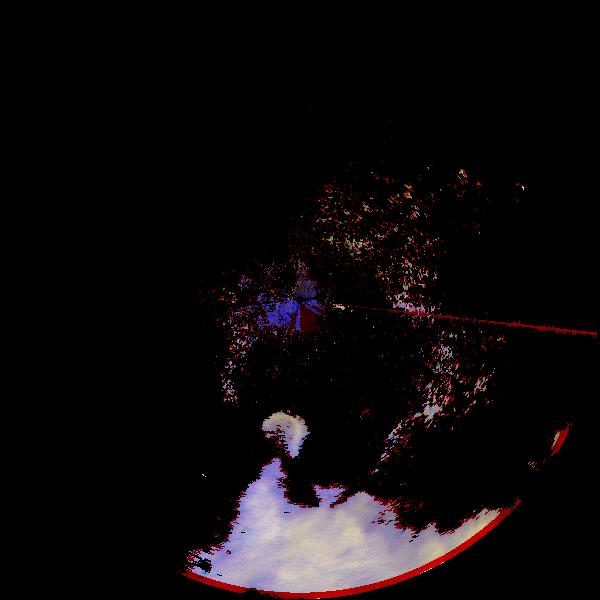roost: (258, 409, 306, 457)
